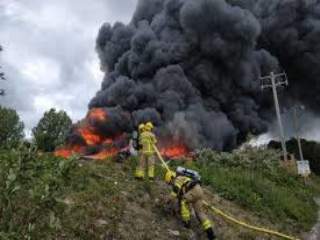smoke: (75, 2, 310, 140)
